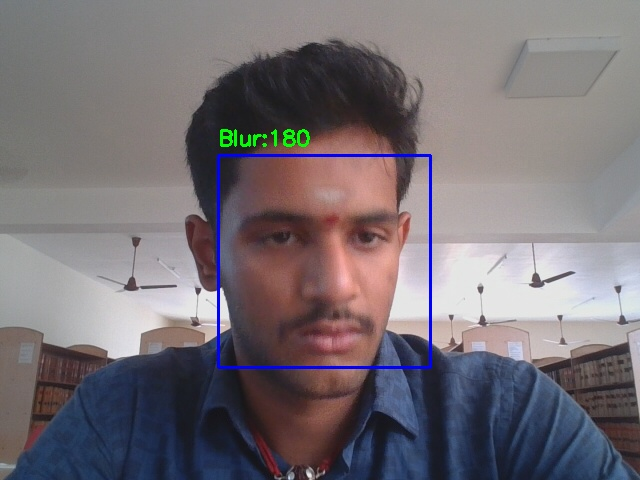real: (218, 155, 430, 367)
